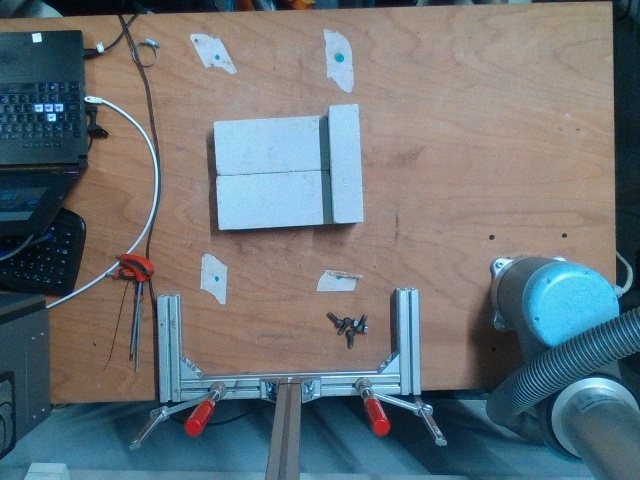brick-side: (327, 101, 365, 224)
